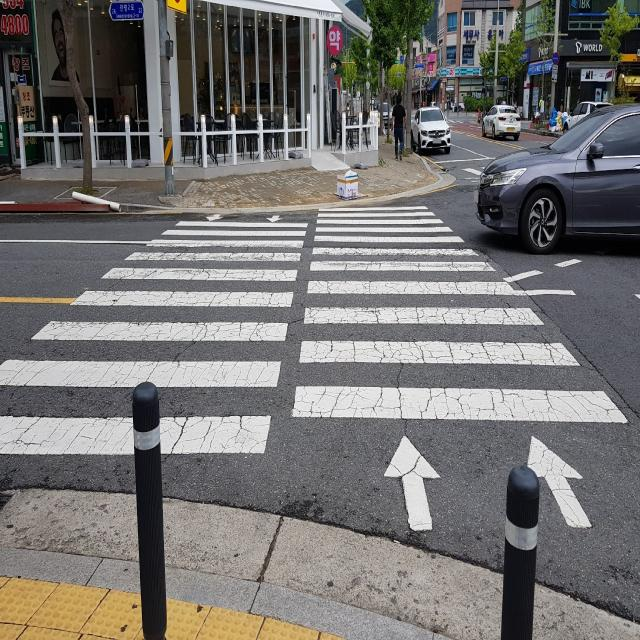횡단보도: (0, 204, 630, 532)
